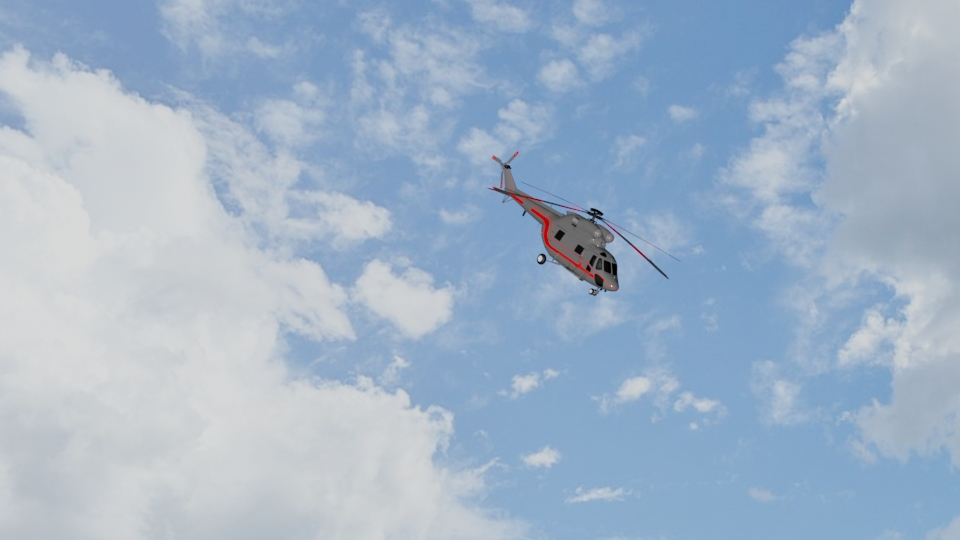heli: (486, 150, 679, 295)
